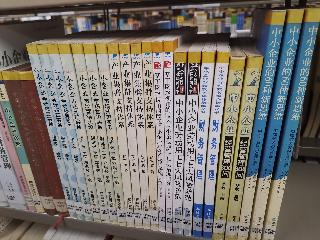book-spine: (256, 5, 320, 240), (244, 6, 306, 240), (234, 10, 286, 240), (26, 42, 77, 220), (1, 67, 58, 221), (36, 41, 84, 221), (218, 54, 264, 240), (46, 41, 93, 223), (17, 67, 70, 220), (57, 42, 101, 223), (206, 55, 247, 240), (70, 42, 110, 225), (84, 41, 118, 224), (186, 49, 218, 237), (94, 42, 126, 228), (200, 51, 230, 240), (108, 42, 135, 229), (117, 41, 143, 230), (181, 51, 203, 237), (140, 41, 160, 232), (131, 42, 150, 230), (169, 52, 187, 235), (153, 41, 167, 233), (162, 41, 174, 234)
